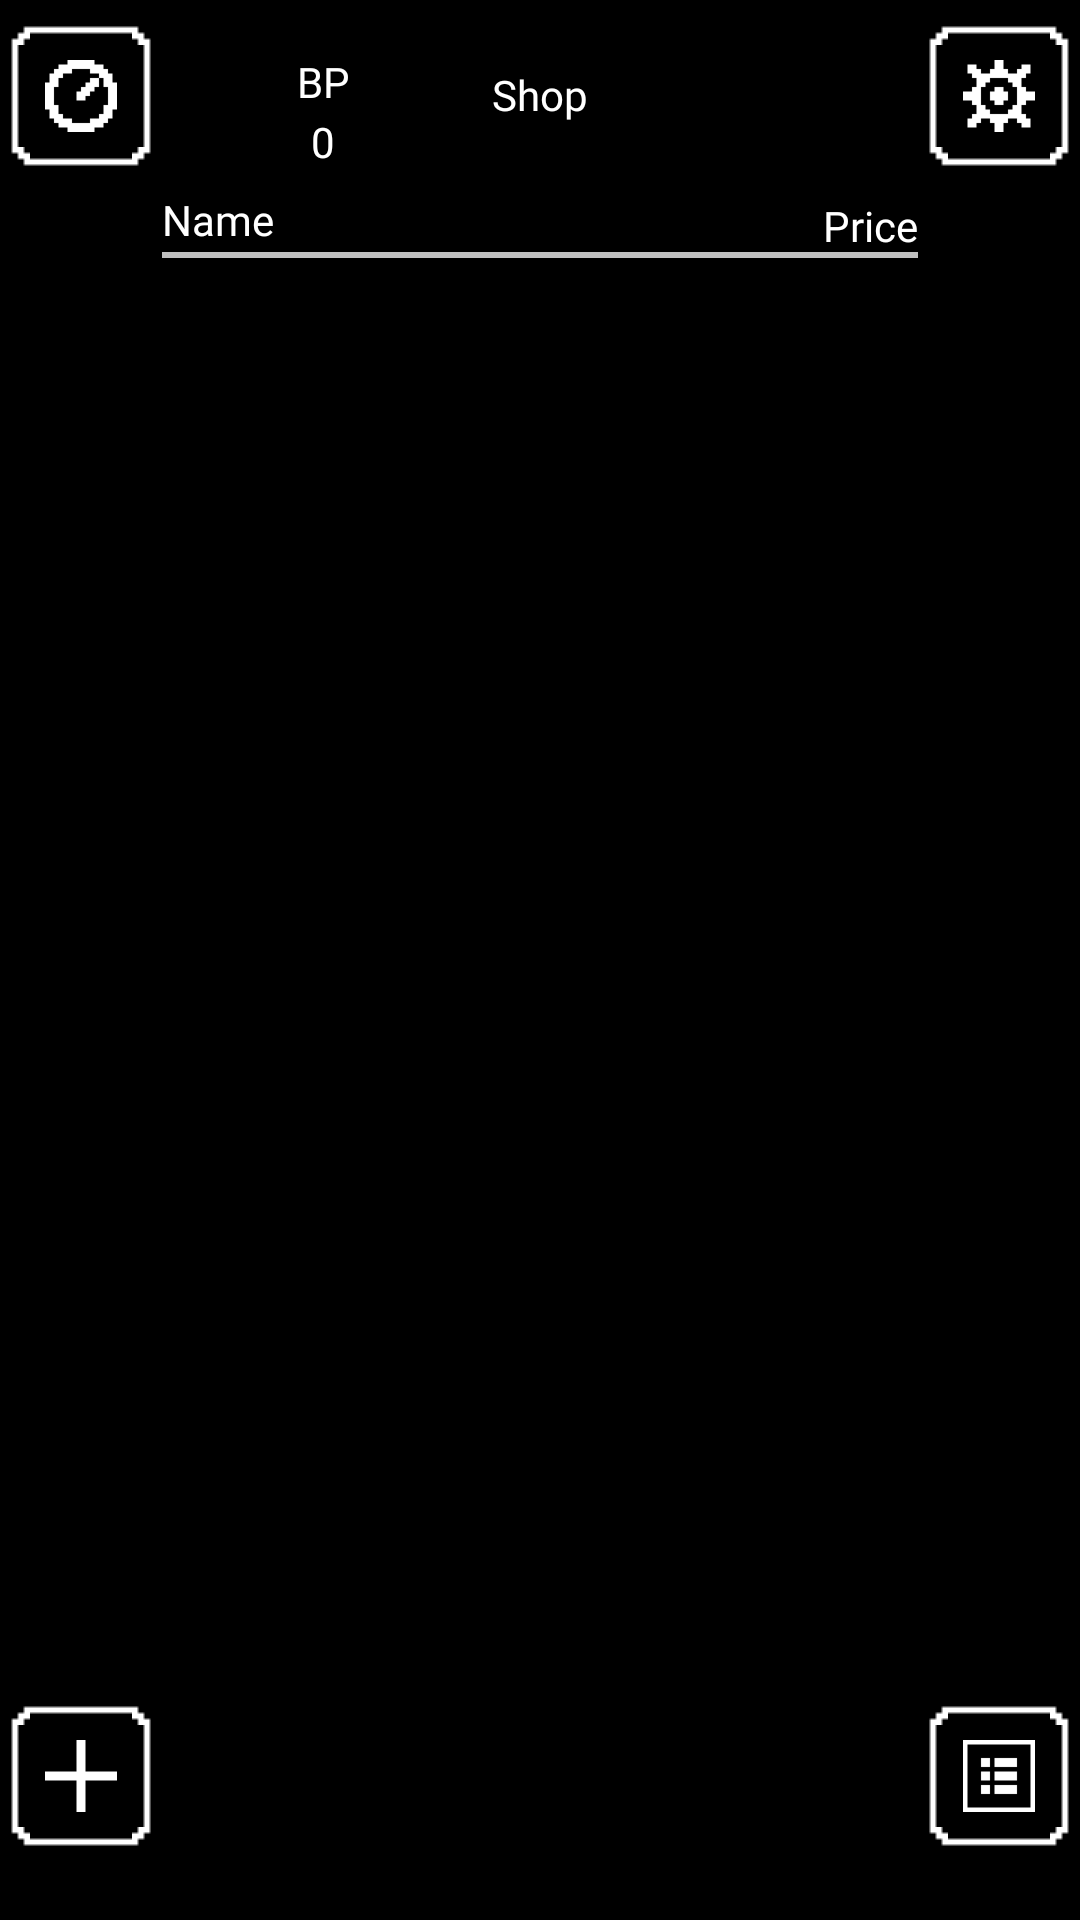

Screen size 1080 x 1920. Icon name, then its center in pixels as [x,y]:
Navigate to the New Item page: [81,1776]
Navigate to the Quest List page: [999,1776]
Navigate to the Settings page: [999,96]
